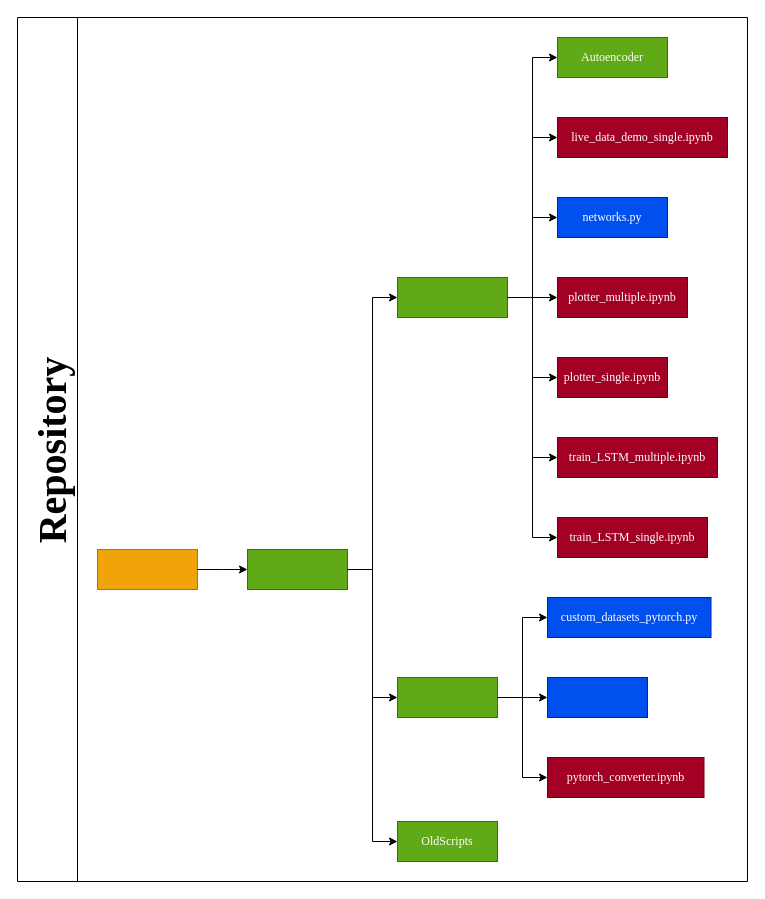
Some shapes in this 765 by 899 pixel diagram are drawn without their labels. The centre of each missing label's shape, as x and y in pixels:
"AnomalyDetection" belongs at [452,297].
"data_splitter.py" belongs at [597,697].
"notebooks" belongs at [297,569].
"python_code" belongs at [147,569].
"PytorchFormatter" belongs at [447,697].
